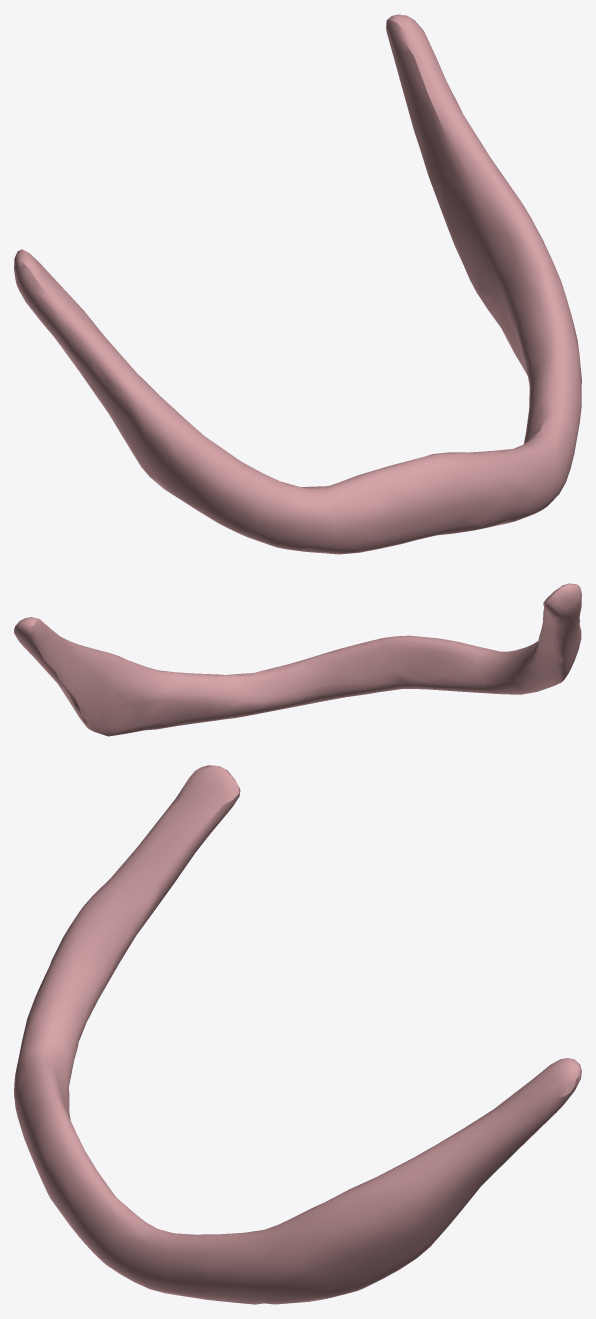
Rendered from fma84626_mm603.glb.
3 renders of one model, top to bottom at view 1: azimuth 30°, elevation 25°; view 2: azimuth 150°, elevation 25°; view 3: azimuth 270°, elevation 25°, orthographic. The views are drawn at different scales.
Parts seen in each view (by area): view 1: FMA84626_MM603; view 2: FMA84626_MM603; view 3: FMA84626_MM603.
Boxes of the visible parts, x1,y1,x2,y2 form: FMA84626_MM603: (14, 14, 581, 554); FMA84626_MM603: (14, 583, 581, 736); FMA84626_MM603: (14, 765, 581, 1304).
Size of the model in its own units: 0.0191 by 0.00984 by 0.0168.
